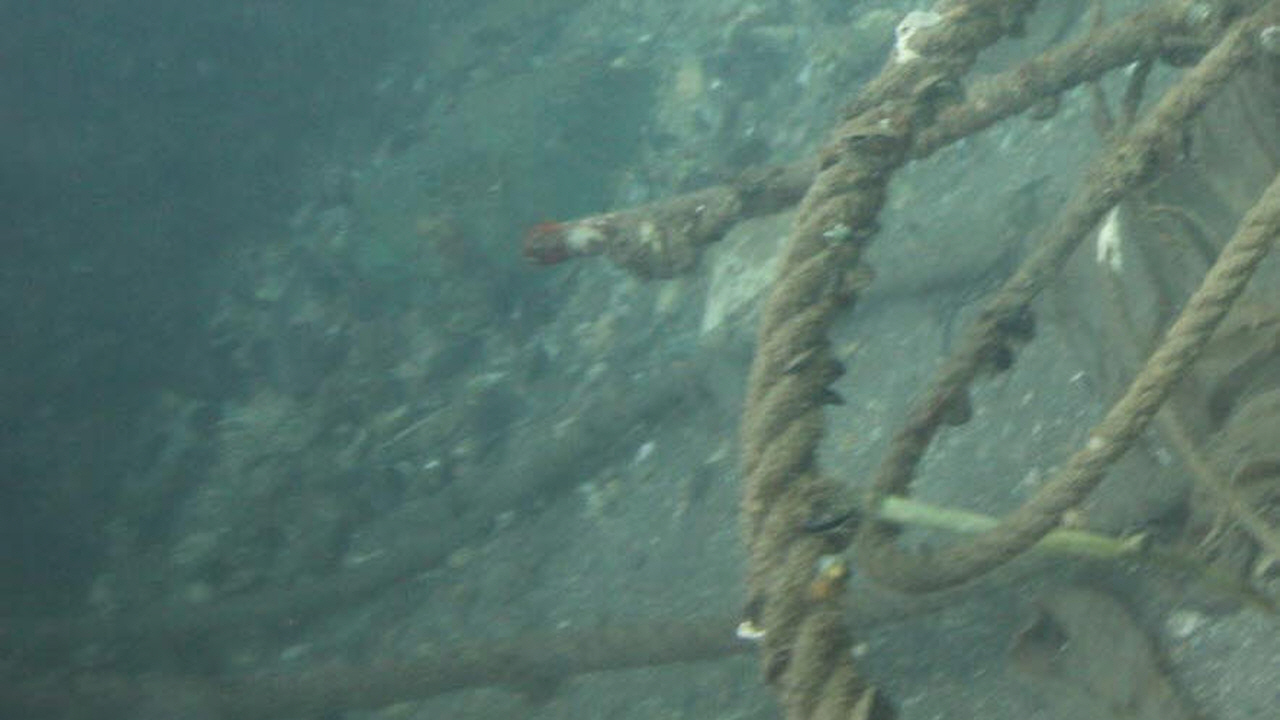bundle of ropes: (523, 0, 1280, 720)
